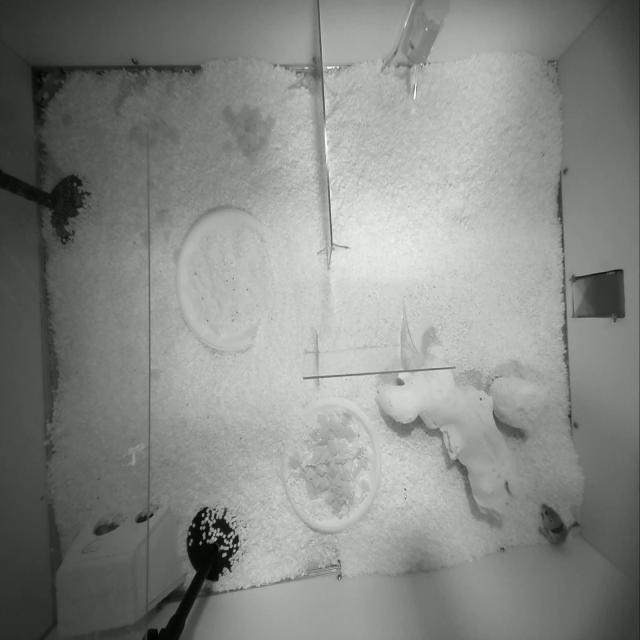pup_h_stripe: (539, 503, 579, 545)
